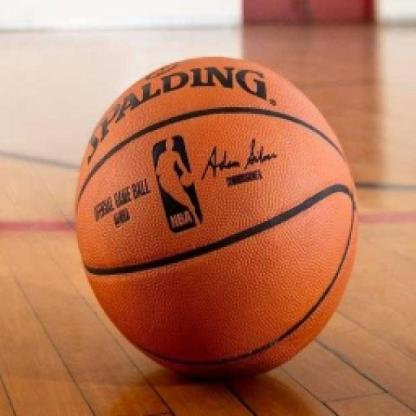basketball: (71, 51, 362, 387)
